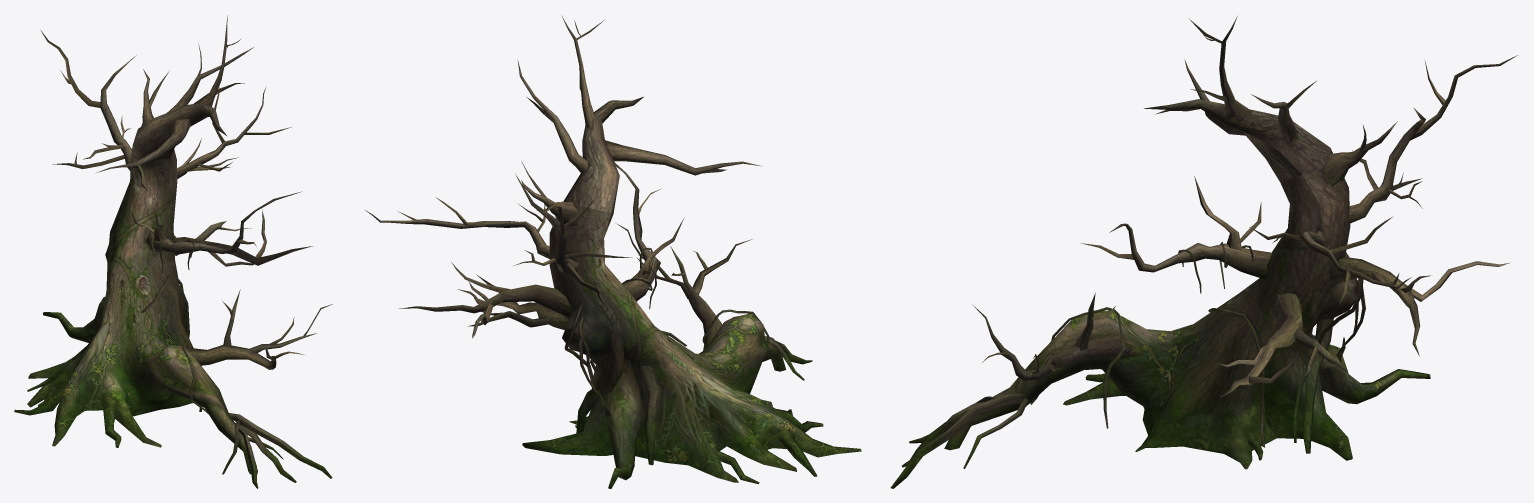
File: shu_005.FBX
3 views of the same model, side by side, from view 1: azimuth 30°, elevation 25°; view 2: azimuth 150°, elevation 25°; view 3: azimuth 270°, elevation 25° (orthographic). The views are drawn at different scales.
Visible parts, largest first — view 1: shu_005; view 2: shu_005; view 3: shu_005.
Boxes of the visible parts, x1,y1,x2,y2 form: shu_005: [14, 15, 332, 488]; shu_005: [365, 15, 861, 488]; shu_005: [890, 16, 1517, 488].
Bounding box in the file's own units: 957 × 1043 × 1211.
